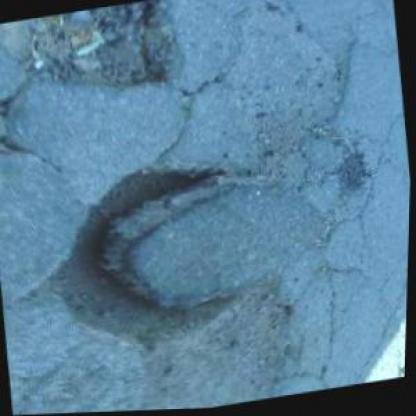pothole: (29, 151, 275, 369), (8, 0, 182, 112)
